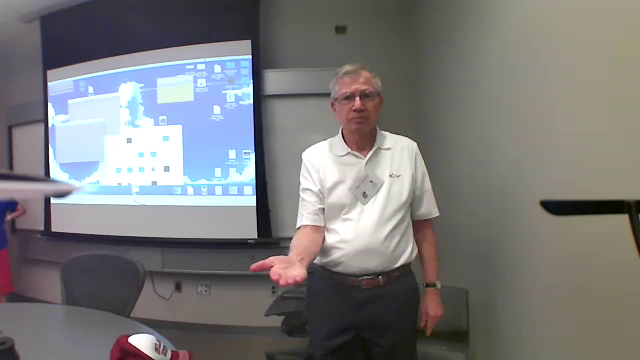land: (240, 251, 312, 295)
